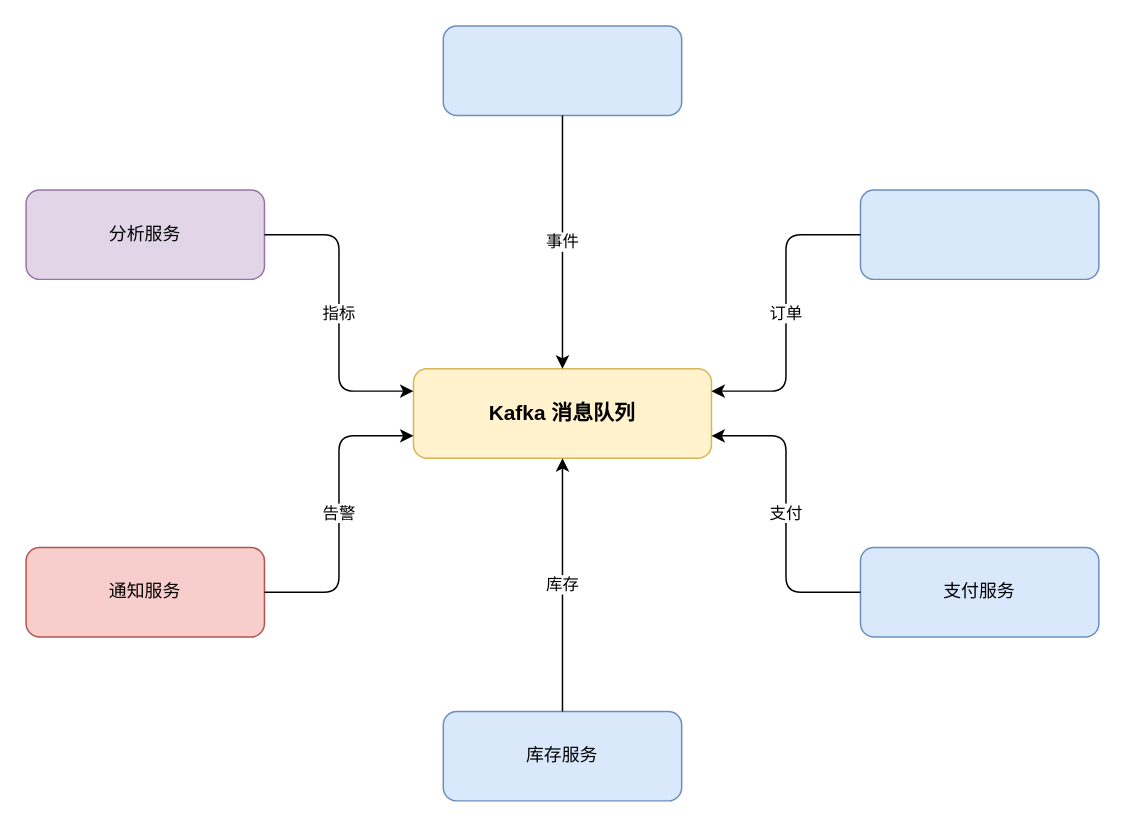
Image size: 1125x827. Some labels were removed from this diagram. The box of each missing label's shape, as (x1, y1, x2, y2) in pixels:
用户服务: (442, 25, 682, 115)
订单服务: (859, 188, 1099, 279)
